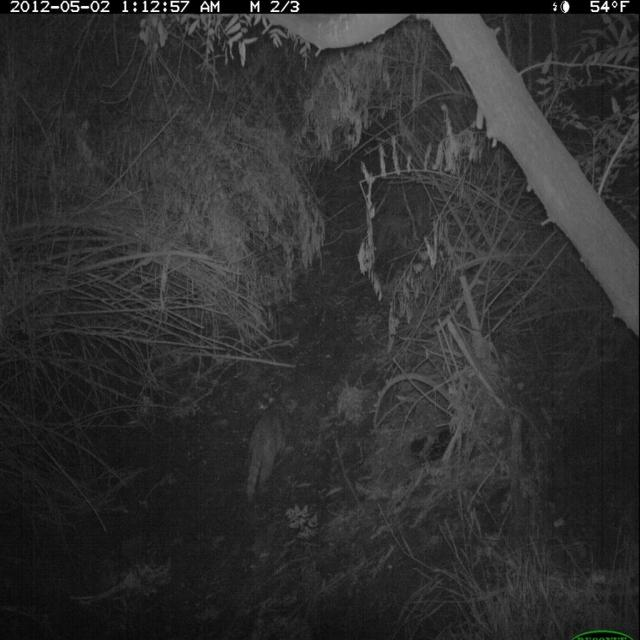raccoon: (236, 374, 307, 515)
